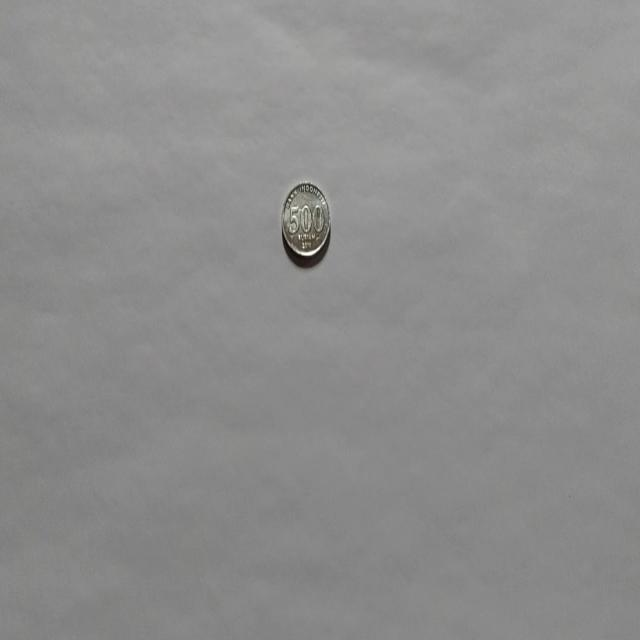lima ratus rupiah: (280, 178, 331, 264)
